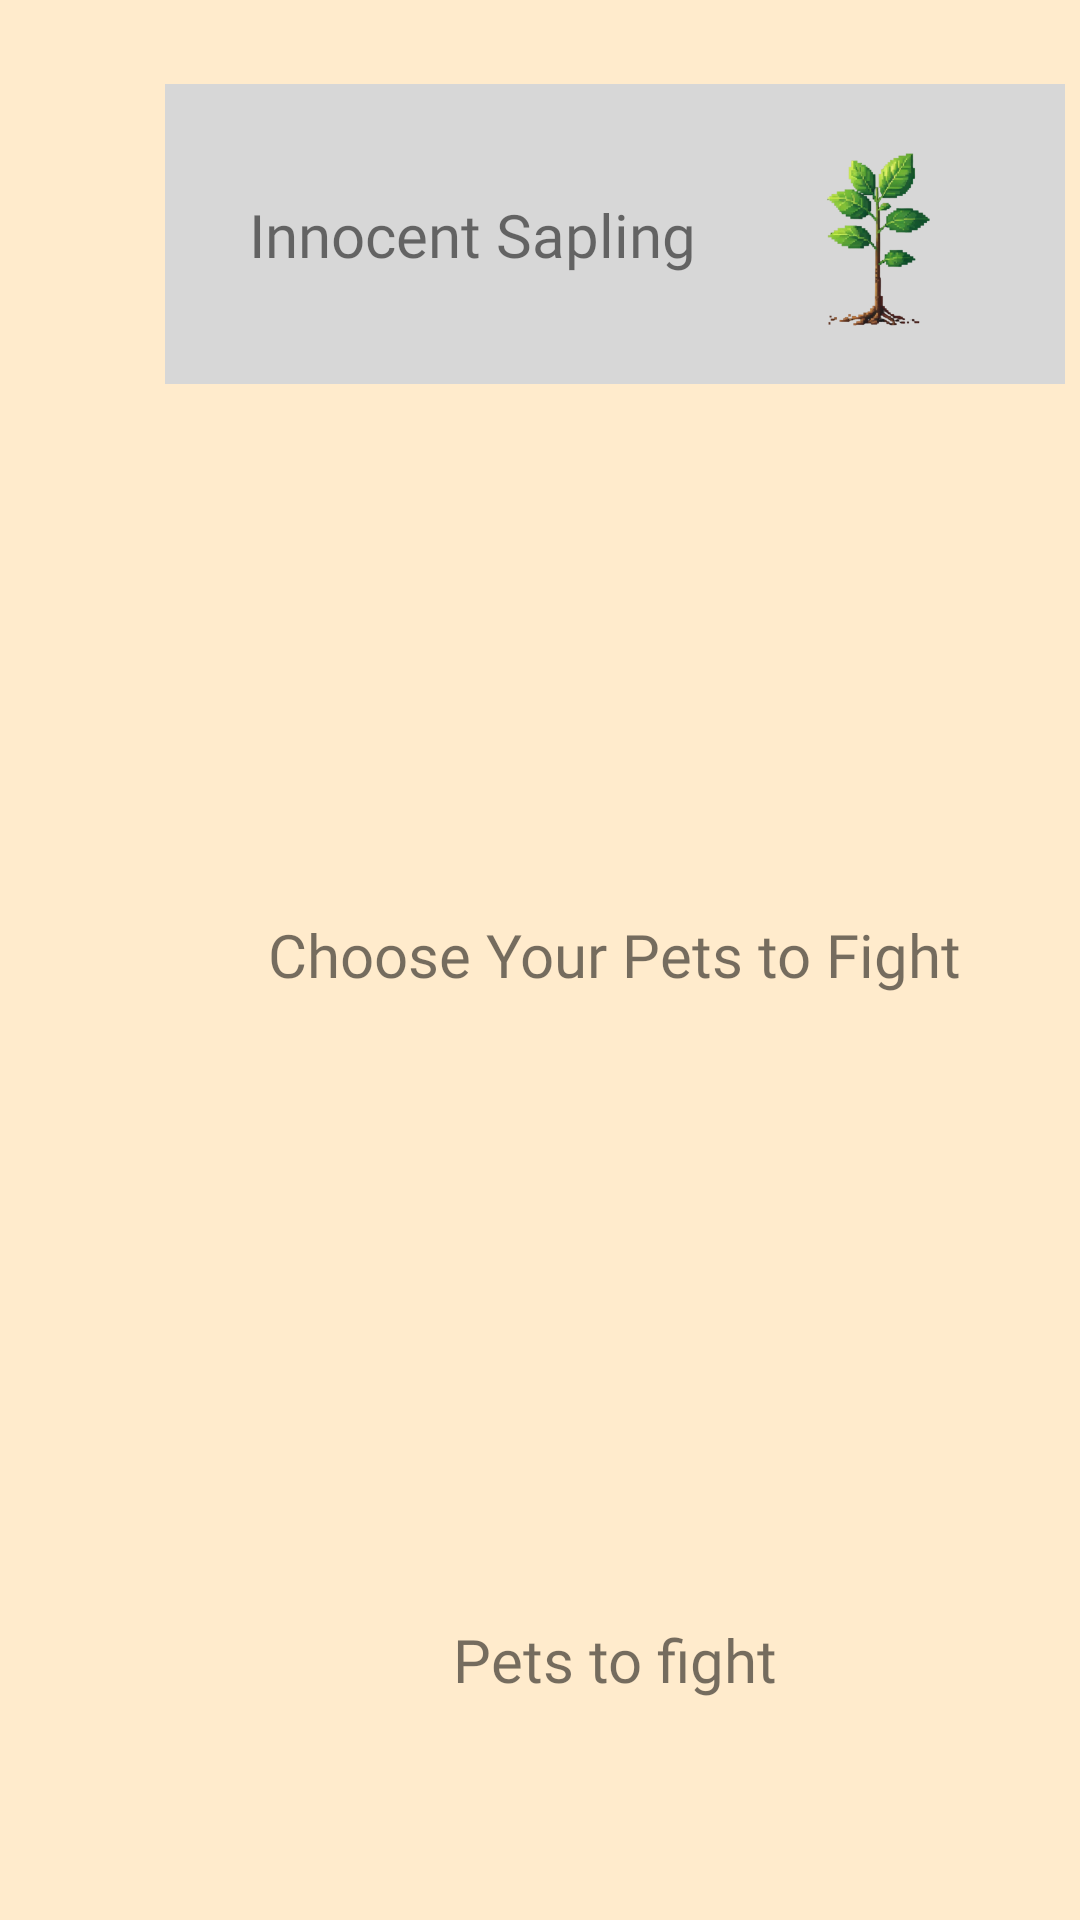

Point at icon controls on the screen. Image size 1080×1920, points as [x,y].
game enemy sapling: [878,239]
